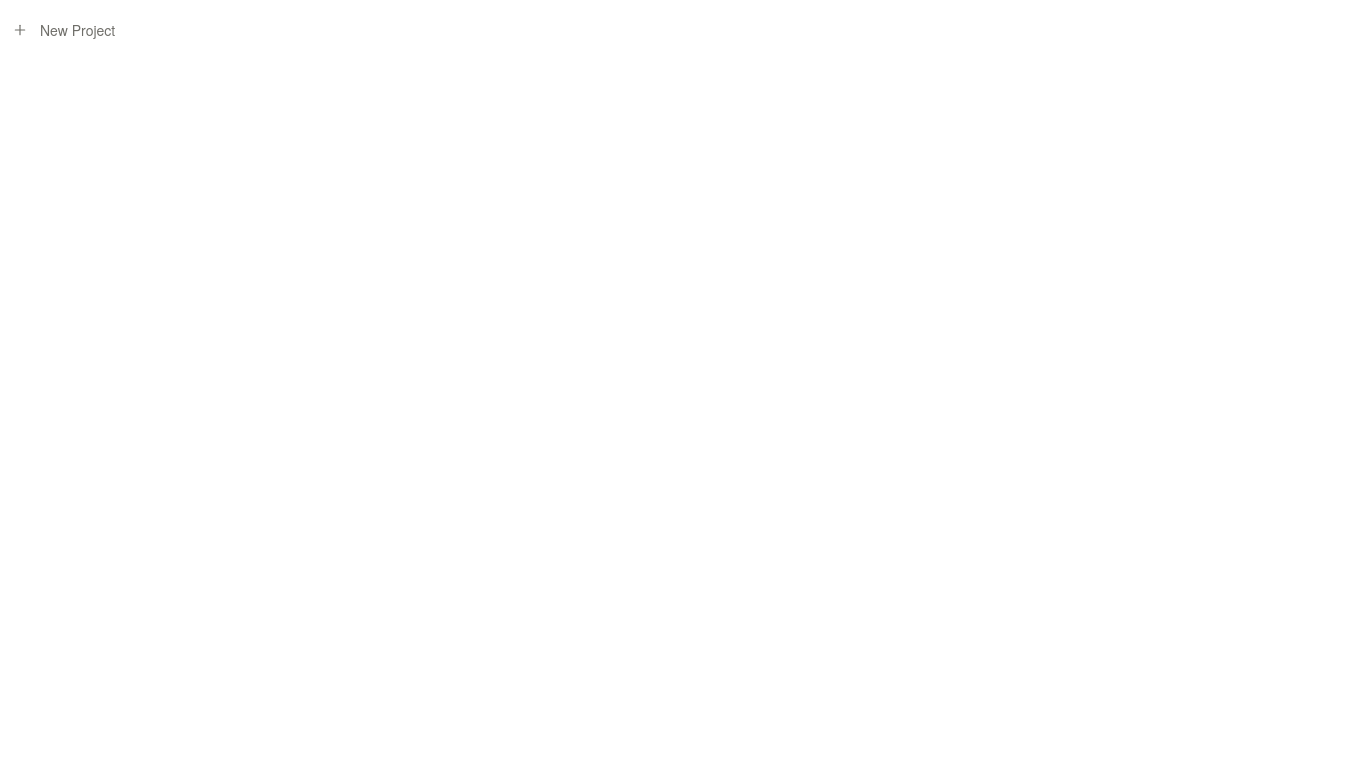
Test: CreateProjectDialog › hides the workspace path input behind Advanced Settings by default
Click the button "New Project" at (78, 30), box [0,12,1365,48]
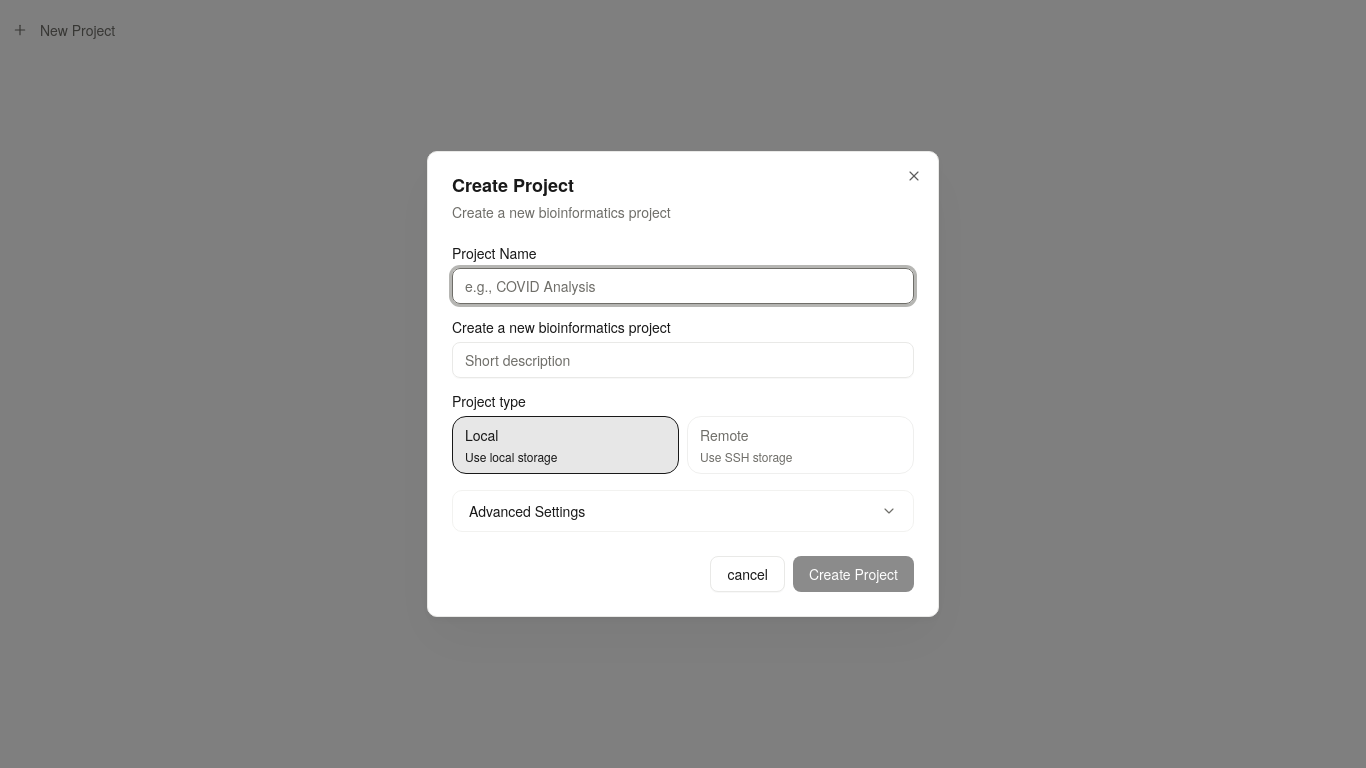
expect the button "Advanced Settings" is shown: met, box [453,491,913,531]
